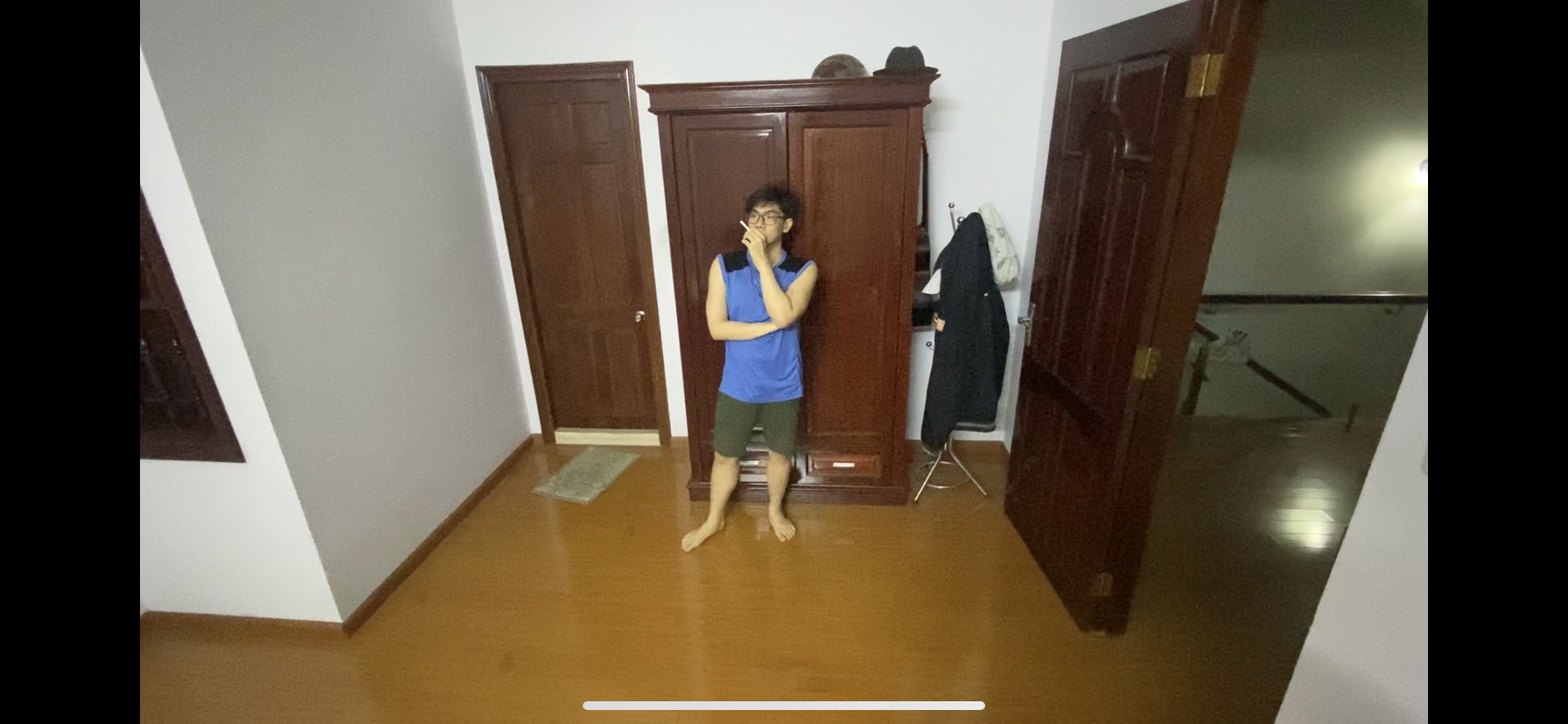cigarette: (738, 220, 751, 230)
person: (682, 178, 832, 560)
